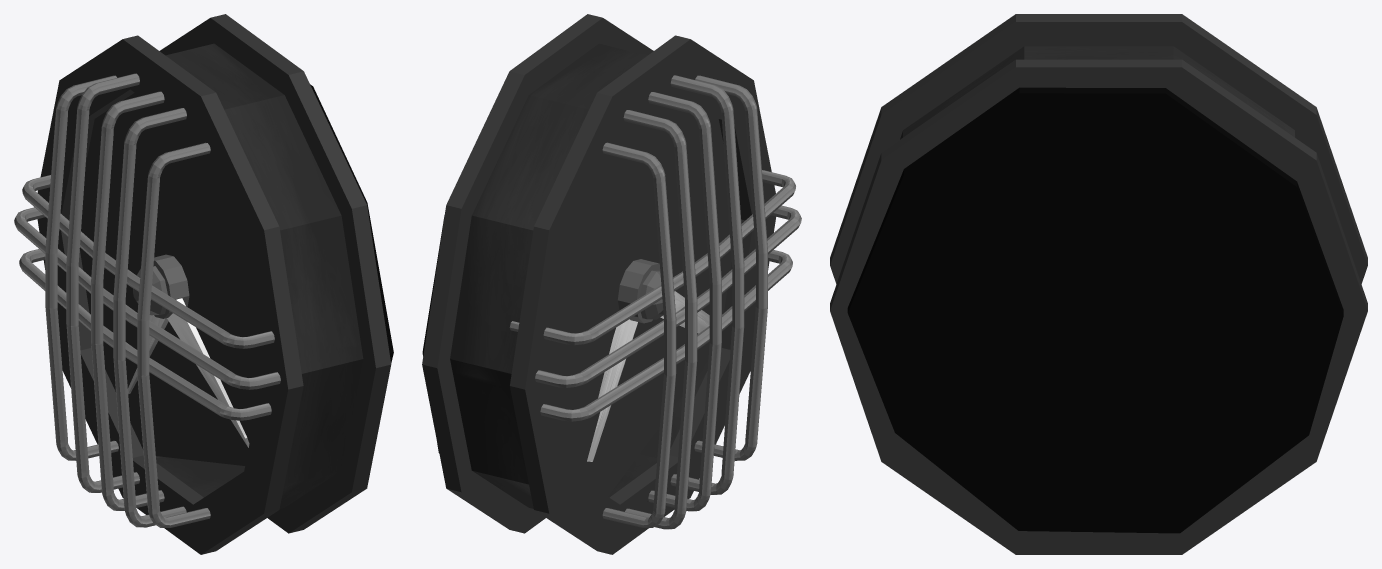
Rendered from VentiladorConMaterial.fbx.
3 renders of one model, left to right at view 1: azimuth 30°, elevation 25°; view 2: azimuth 150°, elevation 25°; view 3: azimuth 270°, elevation 25°, orthographic. The views are drawn at different scales.
Parts seen in each view (by area): view 1: BaseAlante, Cuerpo, BaseAtras, Barrote.003, Barrote.001, Barrote.002, Barrote.008, Barrote.007, Barrote.004, Barrote.006, Barrote.005, Aspa.004 (+3 smaller); view 2: BaseAlante, Cuerpo, BaseAtras, Barrote.003, Barrote.001, Barrote.002, Barrote.007, Barrote.008, Barrote.004, Barrote.006, Barrote.005, Aspa.002 (+2 smaller); view 3: Atras, BaseAtras, BaseAlante, Cuerpo.
Boxes of the visible parts, x1,y1,x2,y2 form: BaseAlante: [37, 35, 303, 554]; Cuerpo: [156, 43, 363, 508]; BaseAtras: [160, 14, 391, 533]; Barrote.003: [113, 108, 186, 527]; Barrote.001: [91, 91, 164, 510]; Barrote.002: [66, 73, 139, 492]; Barrote.008: [137, 142, 210, 527]; Barrote.007: [45, 75, 118, 460]; Barrote.004: [14, 207, 280, 389]; Barrote.006: [22, 175, 274, 348]; Barrote.005: [19, 249, 271, 420]; Aspa.004: [167, 298, 249, 447]; BaseAlante: [510, 35, 775, 554]; Cuerpo: [450, 43, 708, 508]; BaseAtras: [422, 14, 653, 533]; Barrote.003: [670, 75, 744, 494]; Barrote.001: [648, 92, 721, 511]; Barrote.002: [623, 110, 697, 529]; Barrote.007: [602, 142, 676, 527]; Barrote.008: [694, 75, 767, 460]; Barrote.004: [535, 205, 801, 387]; Barrote.006: [509, 170, 795, 345]; Barrote.005: [540, 250, 792, 421]; Aspa.002: [587, 319, 637, 461]; Atras: [847, 87, 1343, 533]; BaseAtras: [830, 59, 1367, 554]; BaseAlante: [830, 14, 1367, 283]; Cuerpo: [900, 46, 1297, 139].
Bounding box in the file's own units: 83.92 × 200 × 200.
